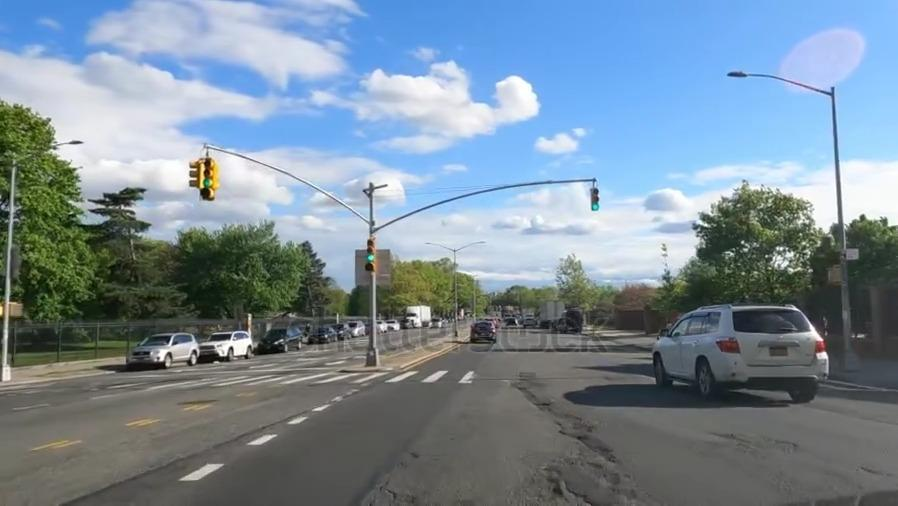car: (651, 307, 835, 411), (125, 333, 202, 366), (205, 331, 252, 358), (258, 327, 302, 353), (471, 322, 496, 343), (312, 326, 335, 344), (334, 323, 353, 341), (347, 318, 365, 336)
pedestrian: (95, 367, 487, 391)
person: (304, 323, 311, 337)
road damage: (541, 453, 640, 505), (557, 410, 617, 461), (517, 368, 557, 416)
traffic light: (187, 152, 220, 208), (362, 239, 381, 278), (585, 183, 603, 218)
wheel: (689, 356, 718, 398)
